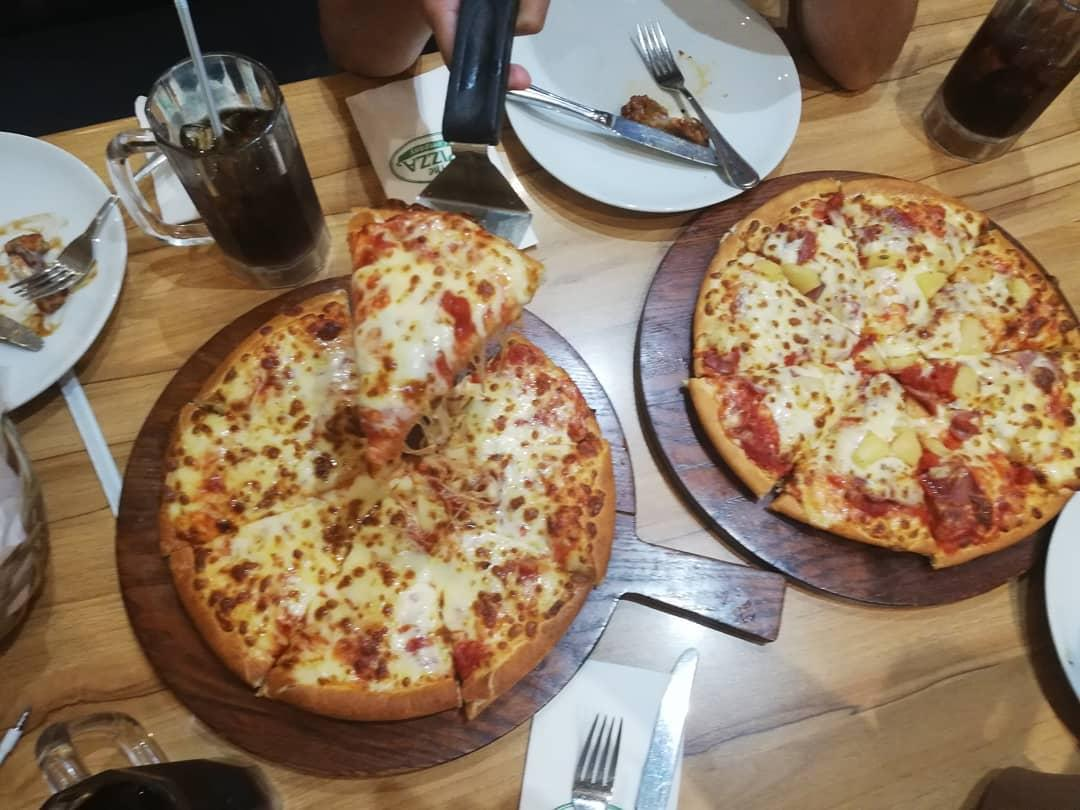Ham: (710, 367, 781, 469), (935, 474, 991, 540), (897, 360, 955, 412), (449, 640, 493, 676)
Pineapple: (857, 422, 923, 468), (912, 255, 953, 304), (775, 260, 823, 300), (945, 314, 991, 349), (944, 367, 986, 404), (962, 255, 999, 283), (1010, 275, 1038, 307), (864, 247, 901, 265)
Pizza: (122, 209, 613, 702), (700, 170, 1080, 553)
